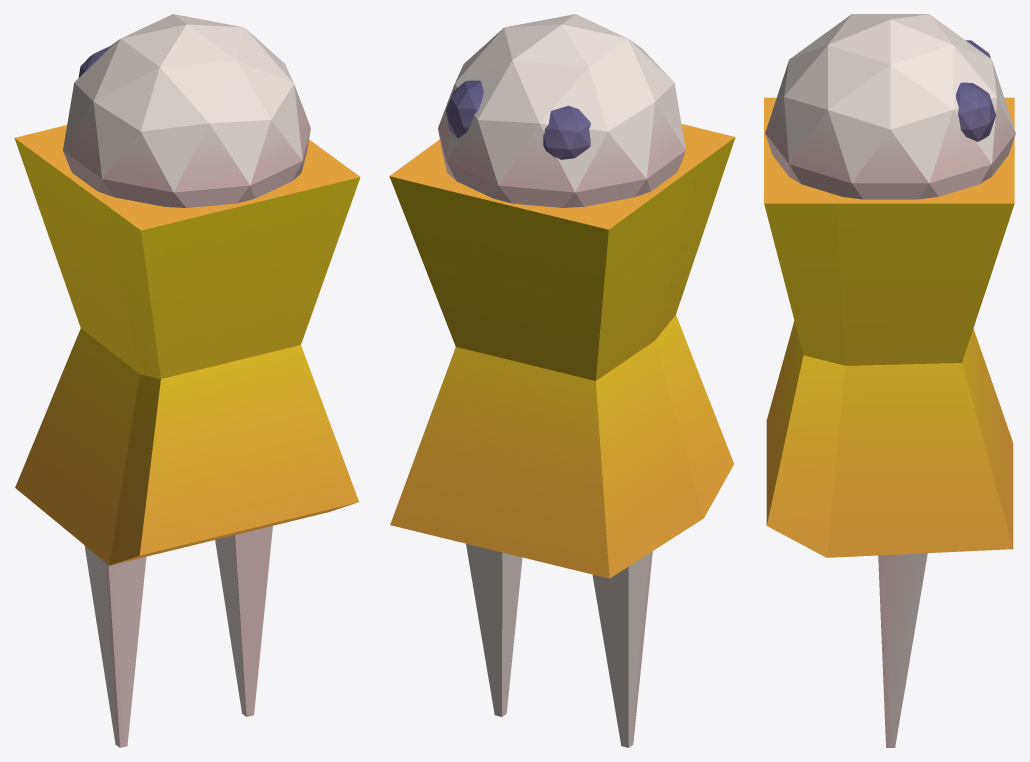
The model's file is practice.fbx.
3 views of the same model, side by side, from view 1: azimuth 30°, elevation 25°; view 2: azimuth 150°, elevation 25°; view 3: azimuth 270°, elevation 25° (orthographic).
Visible parts, largest first — view 1: Body, Head, Leg.001, Leg; view 2: Body, Head, Leg.001, Leg, Icosphere, Icosphere.001; view 3: Body, Head, Leg, Icosphere.001.
Part boxes in pixels (bbox=[...]): Body: bbox=[14, 125, 360, 565]; Head: bbox=[63, 14, 310, 207]; Leg.001: bbox=[84, 545, 146, 747]; Leg: bbox=[215, 526, 272, 716]; Body: bbox=[389, 124, 735, 578]; Head: bbox=[438, 14, 685, 207]; Leg.001: bbox=[592, 551, 652, 747]; Leg: bbox=[466, 543, 522, 716]; Icosphere: bbox=[543, 105, 590, 159]; Icosphere.001: bbox=[446, 80, 483, 137]; Body: bbox=[764, 97, 1014, 557]; Head: bbox=[765, 14, 1015, 199]; Leg: bbox=[878, 553, 927, 747]; Icosphere.001: bbox=[956, 82, 995, 141].
Bounding box in the file's own units: 200 × 614 × 201.
Materials: 3 (3 with a texture image).
